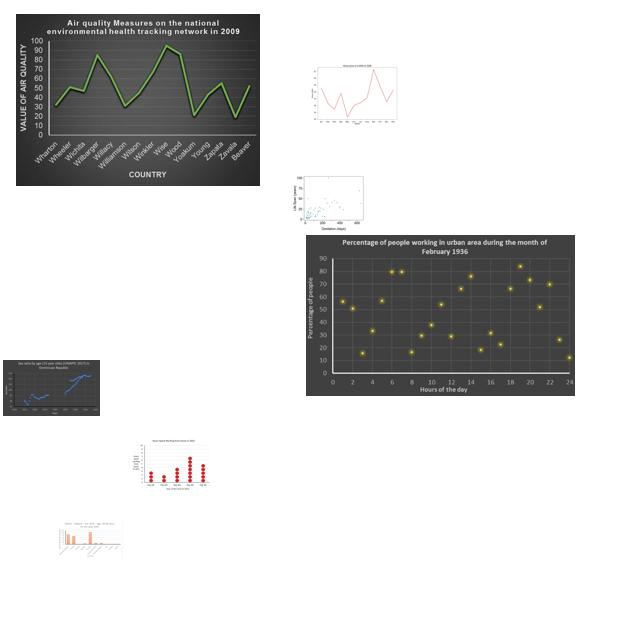Graph: (306, 235, 575, 396), (16, 14, 260, 186), (305, 58, 407, 128), (3, 360, 100, 416), (131, 438, 210, 491), (292, 174, 364, 232), (57, 521, 123, 560)
